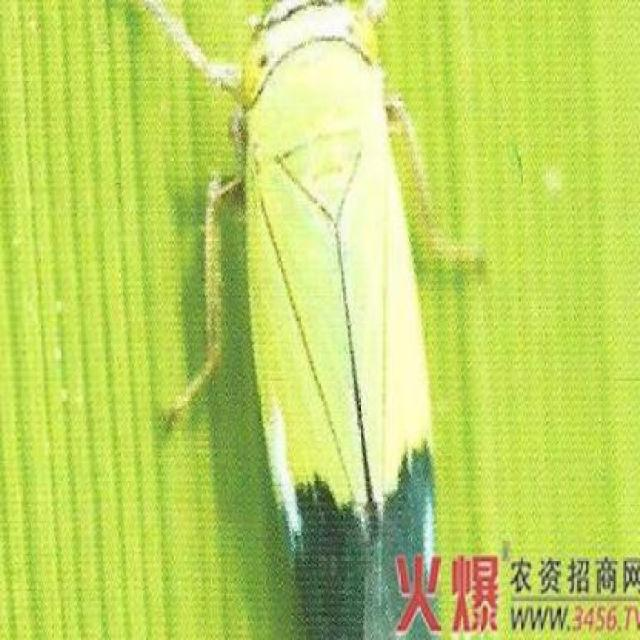green-leafhopper: (138, 0, 489, 638)
